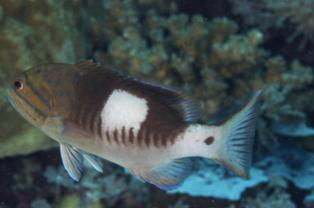Serranidae -Groupers-: (6, 56, 267, 190)
